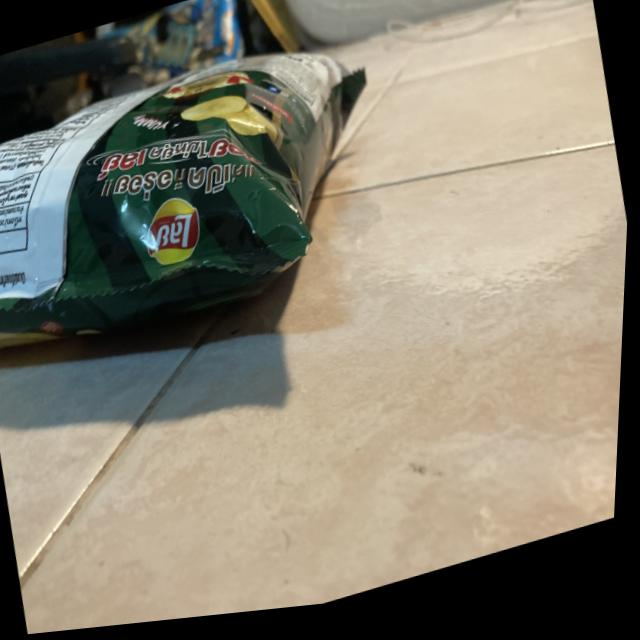Laygreen: (0, 12, 407, 384)
